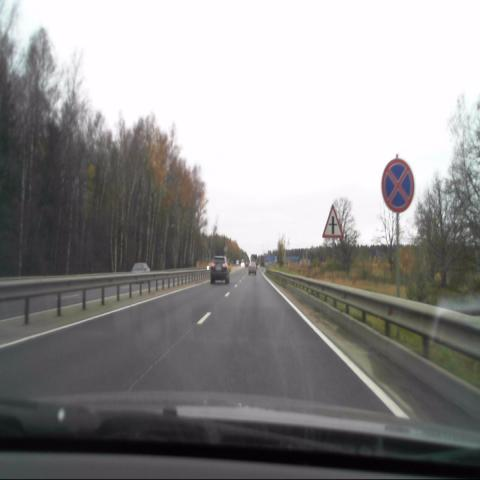3_27: (380, 156, 416, 214)
